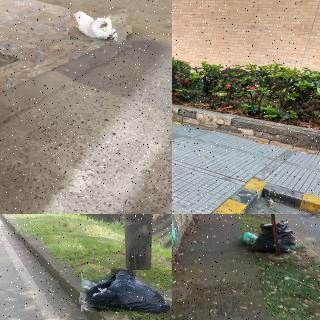Garbage: (79, 266, 172, 315), (70, 5, 128, 42), (254, 221, 296, 254), (238, 231, 257, 245)
